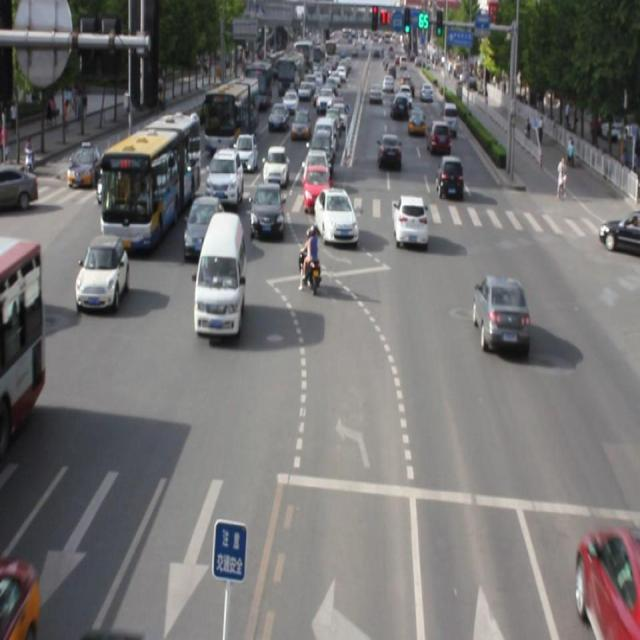car: (576, 527, 640, 639), (472, 273, 528, 350), (76, 234, 130, 311), (1, 556, 39, 640), (312, 183, 356, 244), (184, 194, 225, 259), (392, 194, 426, 246), (251, 183, 283, 237)
truck: (193, 210, 246, 335)
van: (102, 115, 200, 254), (1, 236, 43, 454)
